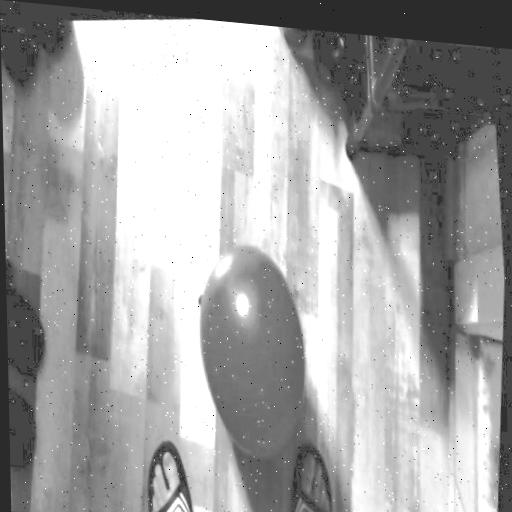balloon: (177, 229, 332, 481)
